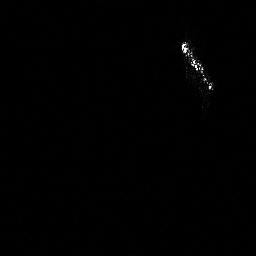ship: (180, 39, 216, 94)
